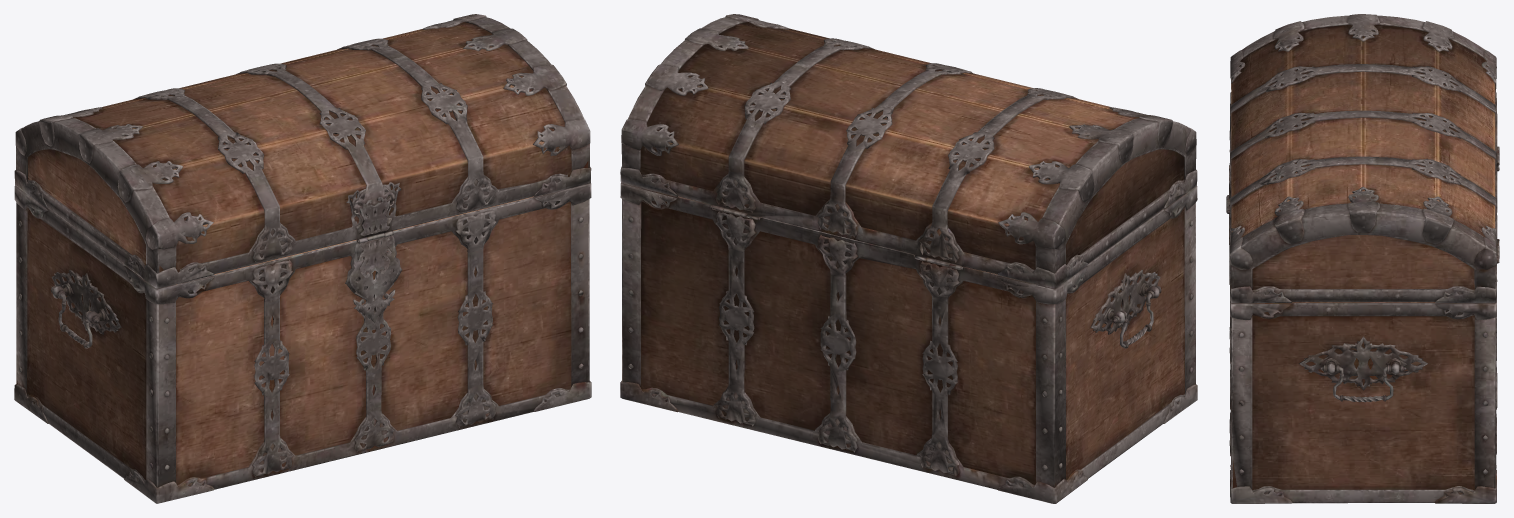
The model's file is chest.glb.
3 views of the same model, side by side, from view 1: azimuth 30°, elevation 25°; view 2: azimuth 150°, elevation 25°; view 3: azimuth 270°, elevation 25° (orthographic). The views are drawn at different scales.
Visible parts, largest first — view 1: treasure_chest_bottom; view 2: treasure_chest_bottom; view 3: treasure_chest_bottom.
Part boxes in pixels (box(x1,y1,x2,y2)): treasure_chest_bottom: box(14, 14, 591, 503); treasure_chest_bottom: box(620, 14, 1197, 503); treasure_chest_bottom: box(1226, 14, 1499, 503).
Size of the model in its own units: 0.959 by 0.6187 by 0.5223.
Materials: 1 (1 with a texture image).
